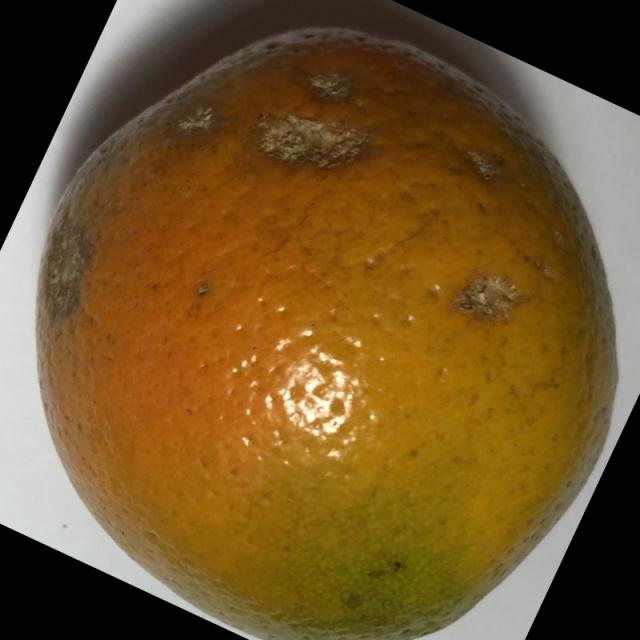canker: (6, 8, 626, 639)
